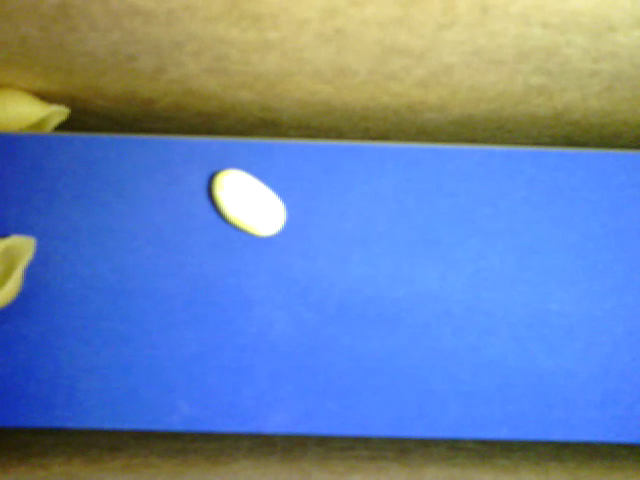shell: (1, 85, 80, 137), (1, 231, 37, 314)
